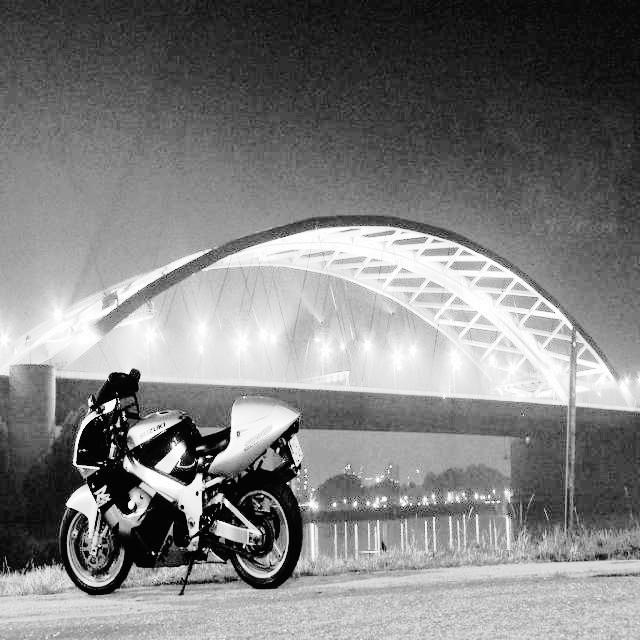Motorcycle: (54, 358, 325, 594)
